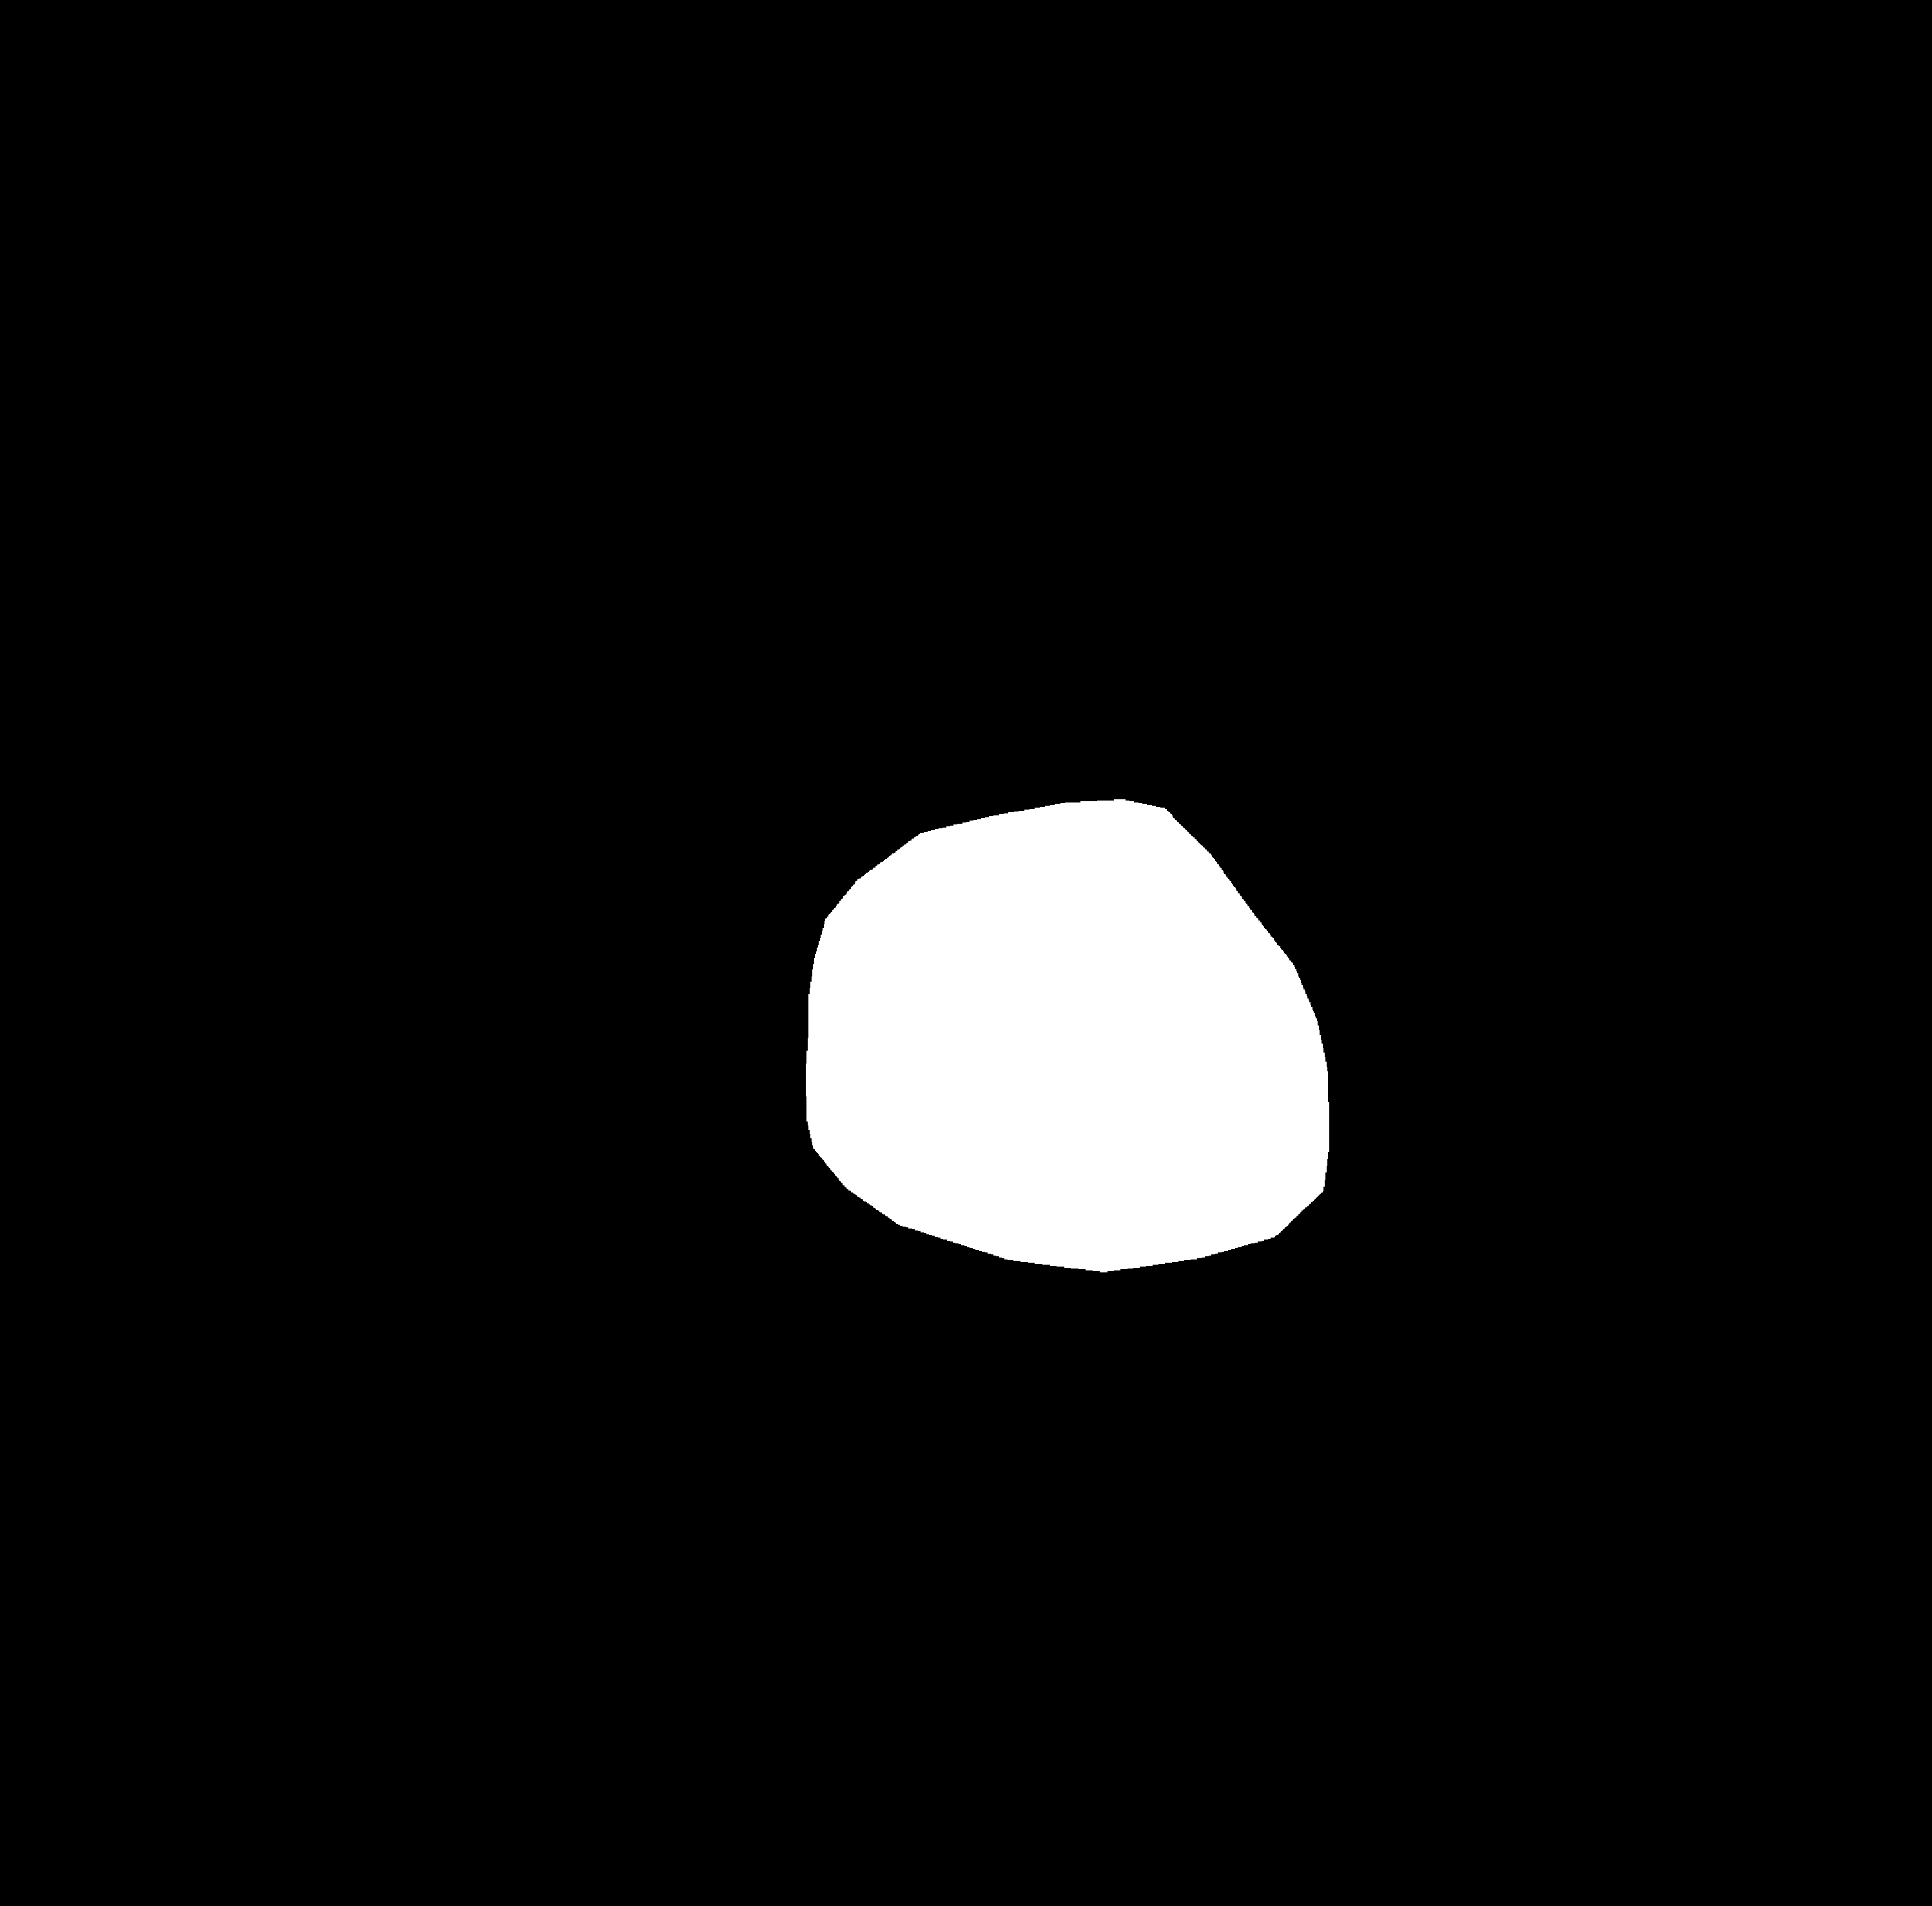heart: (801, 838, 1326, 1211)
left_lung: (415, 264, 897, 1272)
right_lung: (1019, 267, 1473, 1286)
